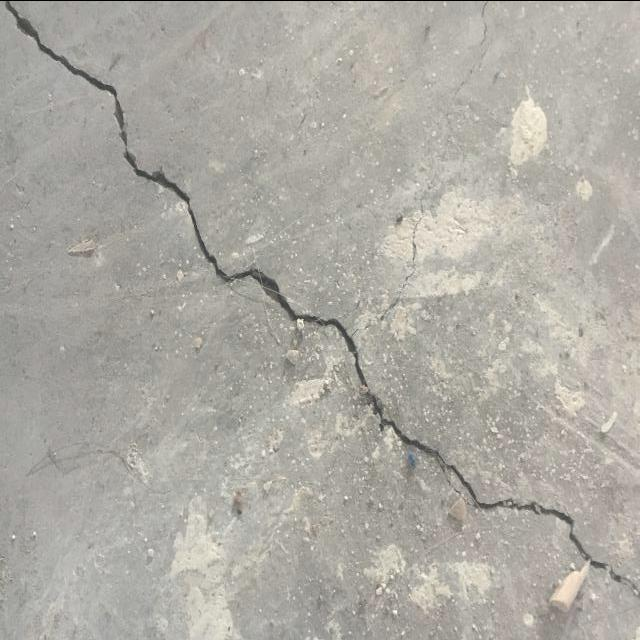SurfaceCrack: (0, 3, 639, 636)
